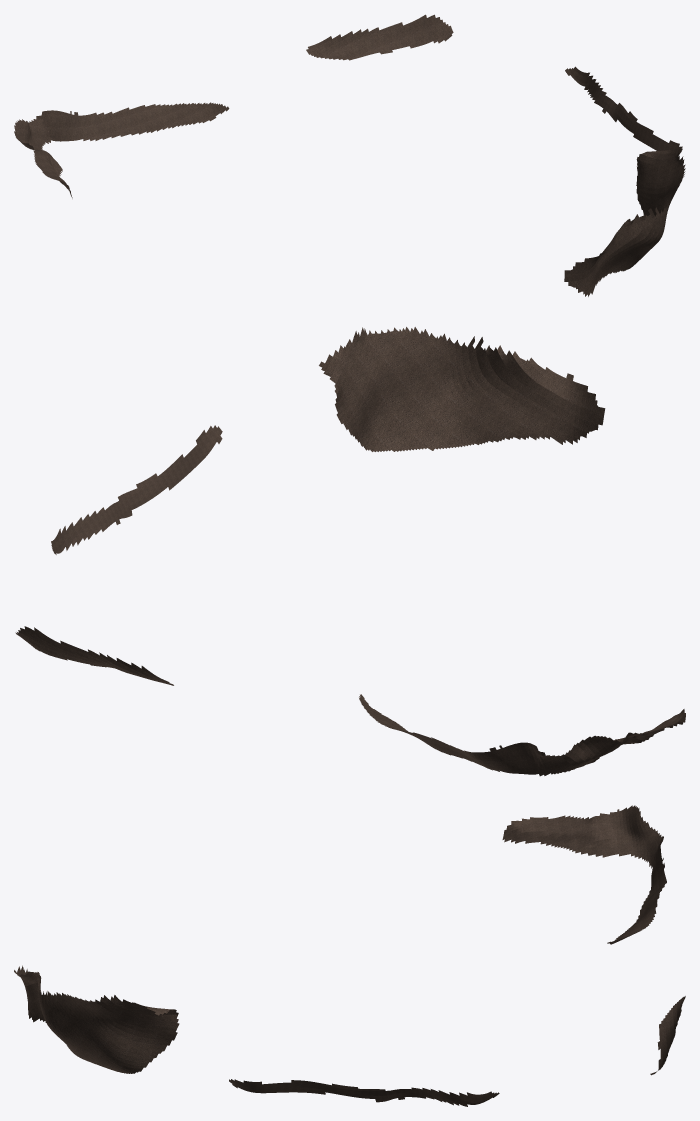
Rendered from MUD.obj.
3 renders of one model, top to bottom at view 1: azimuth 30°, elevation 25°; view 2: azimuth 150°, elevation 25°; view 3: azimuth 270°, elevation 25°, orthographic. The views are drawn at different scales.
Visible parts, largest first — view 1: Pamant; view 2: Pamant; view 3: Pamant.
Boxes of the visible parts, <box> form: Pamant: <box>14,14,685,296</box>; Pamant: <box>15,327,685,776</box>; Pamant: <box>14,805,685,1106</box>.
Bounding box in the file's own units: 43.31 × 7.09 × 44.48.
4 materials, 4 textured.
